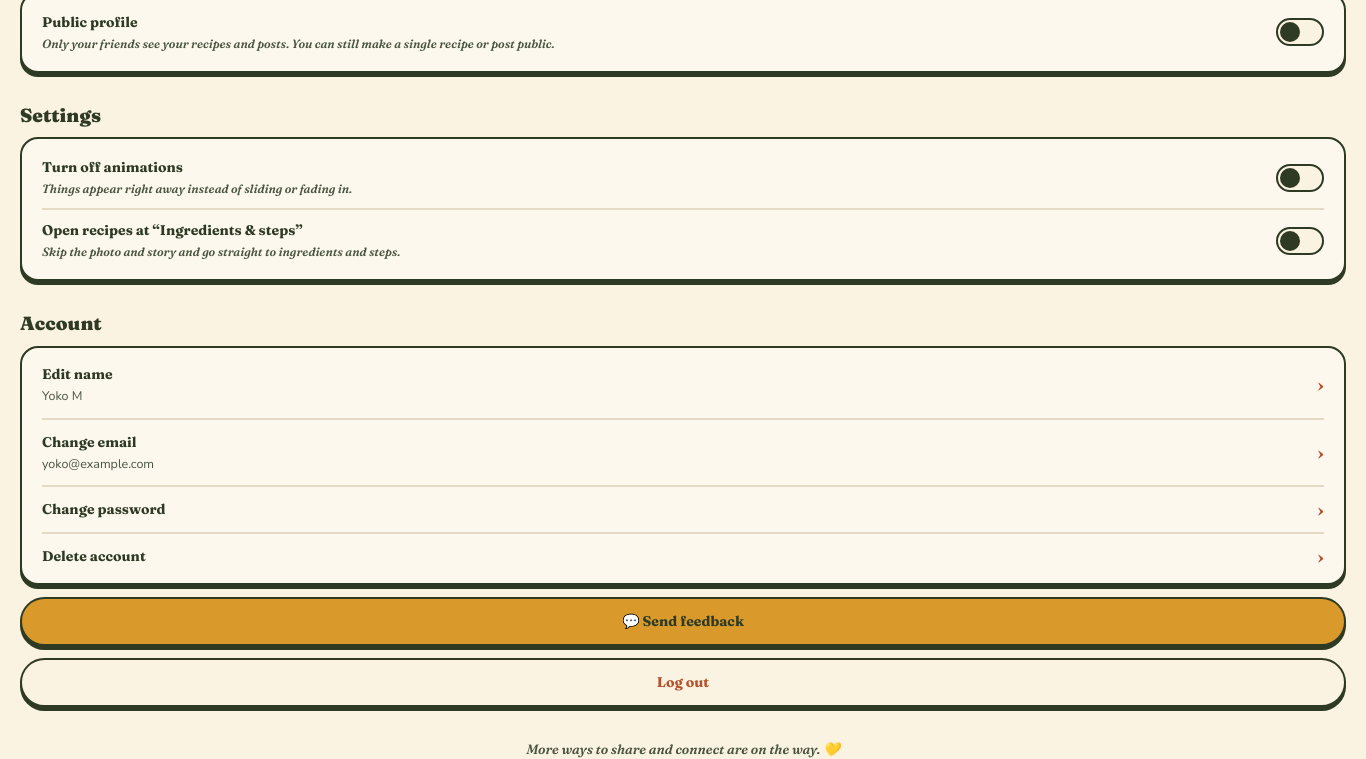
it: Profile account editing › surfaces the server error (e.g. wrong current password) without crashing
(page scrolled)
Click the button "Change password ›".
click(104, 509)  # box 42,487 -> 1324,532
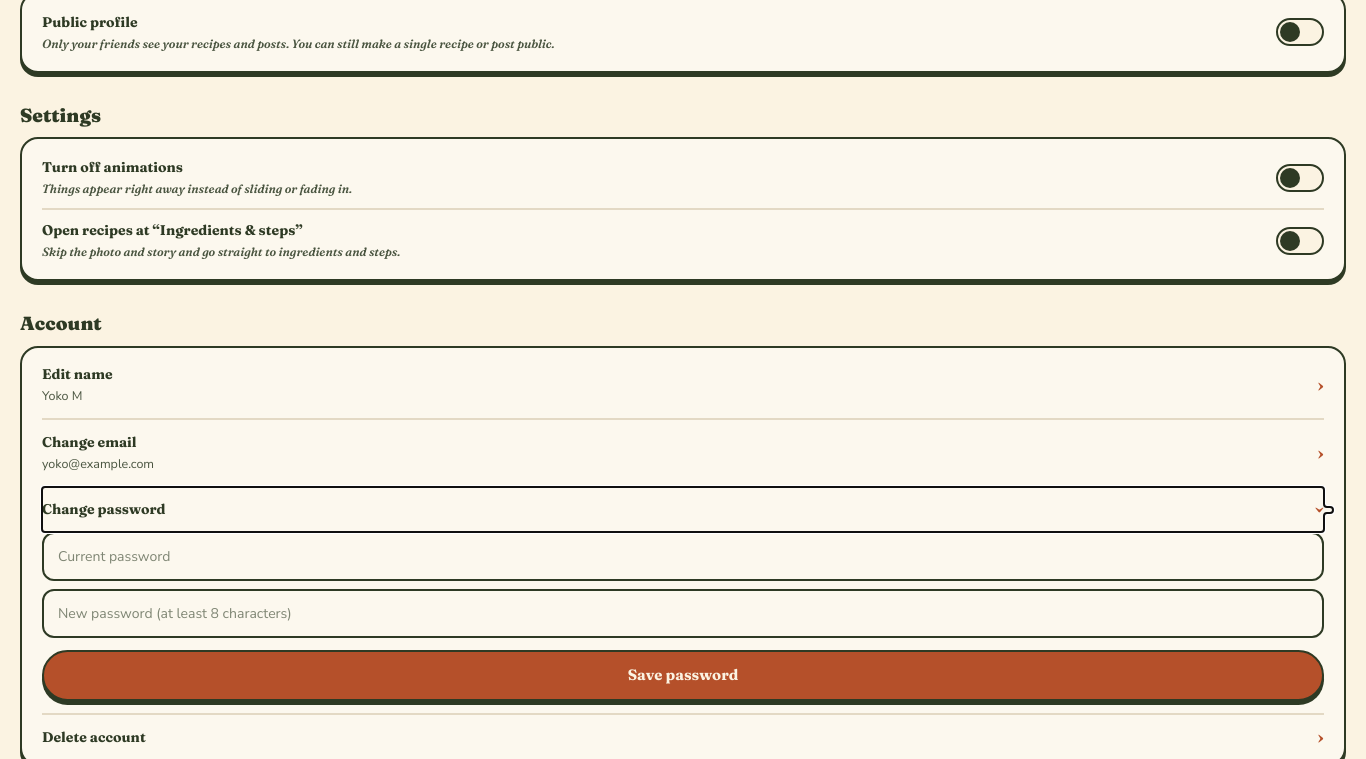
Type "wrong" into the password field labelled "Current password".
click(683, 557); type("wrong")  # box 42,532 -> 1324,581
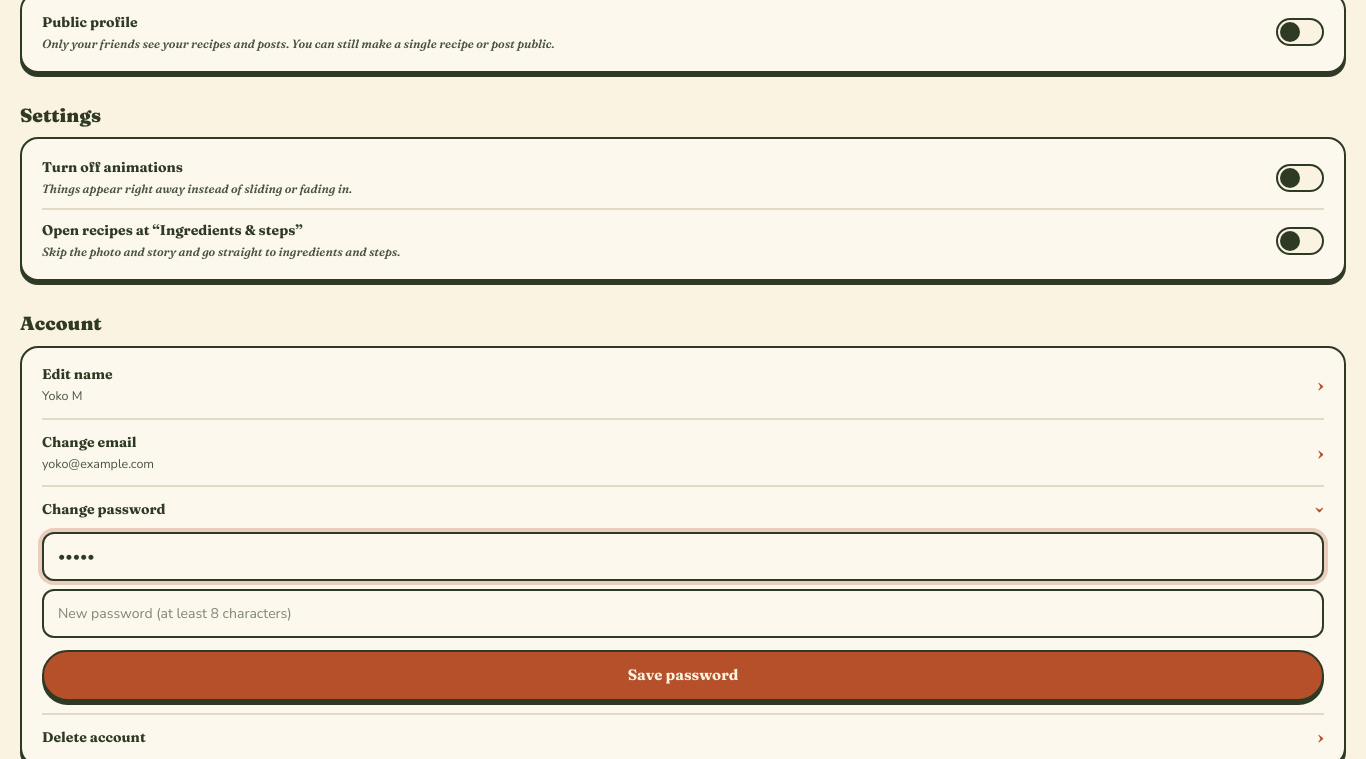
Type "a-new-password" into the password field labelled "New password".
click(683, 614); type("a-new-password")  # box 42,589 -> 1324,638
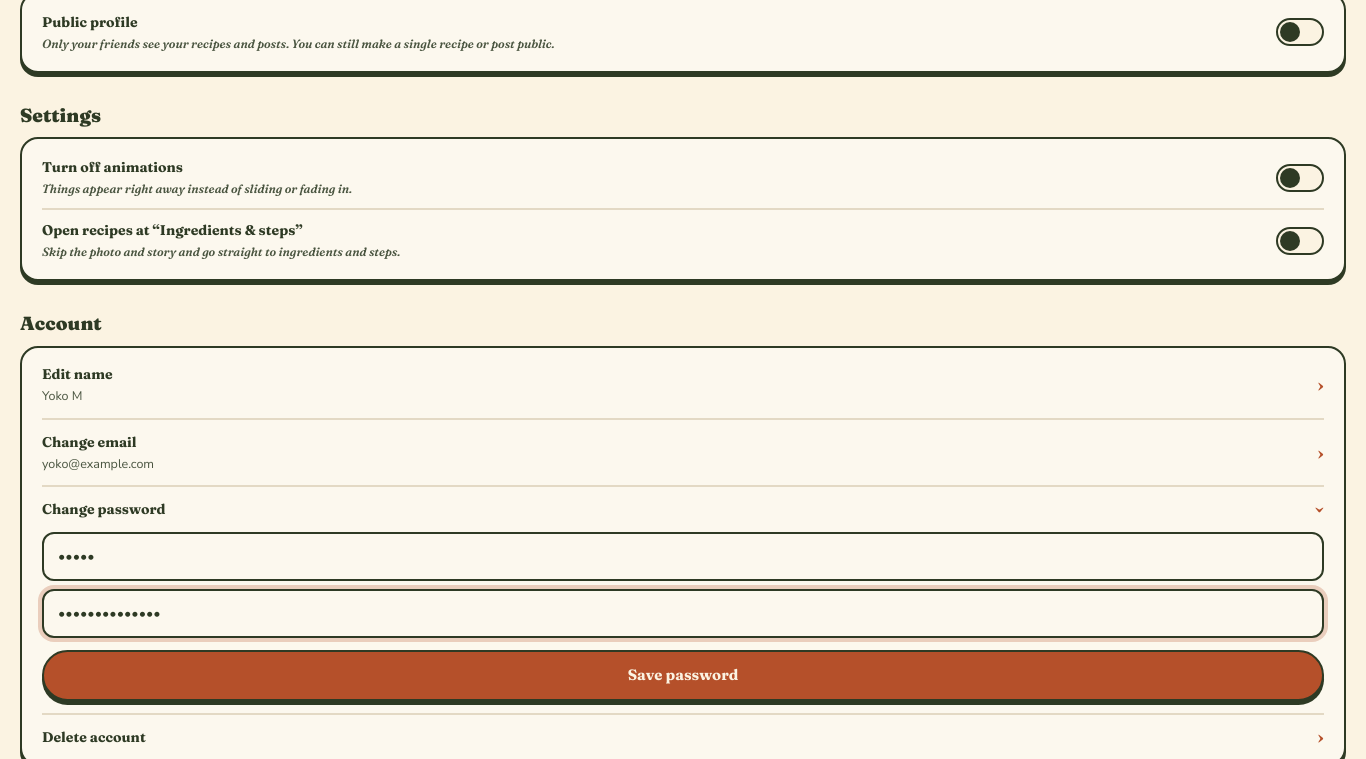
Click the button "Save password".
click(683, 676)  # box 42,650 -> 1324,701
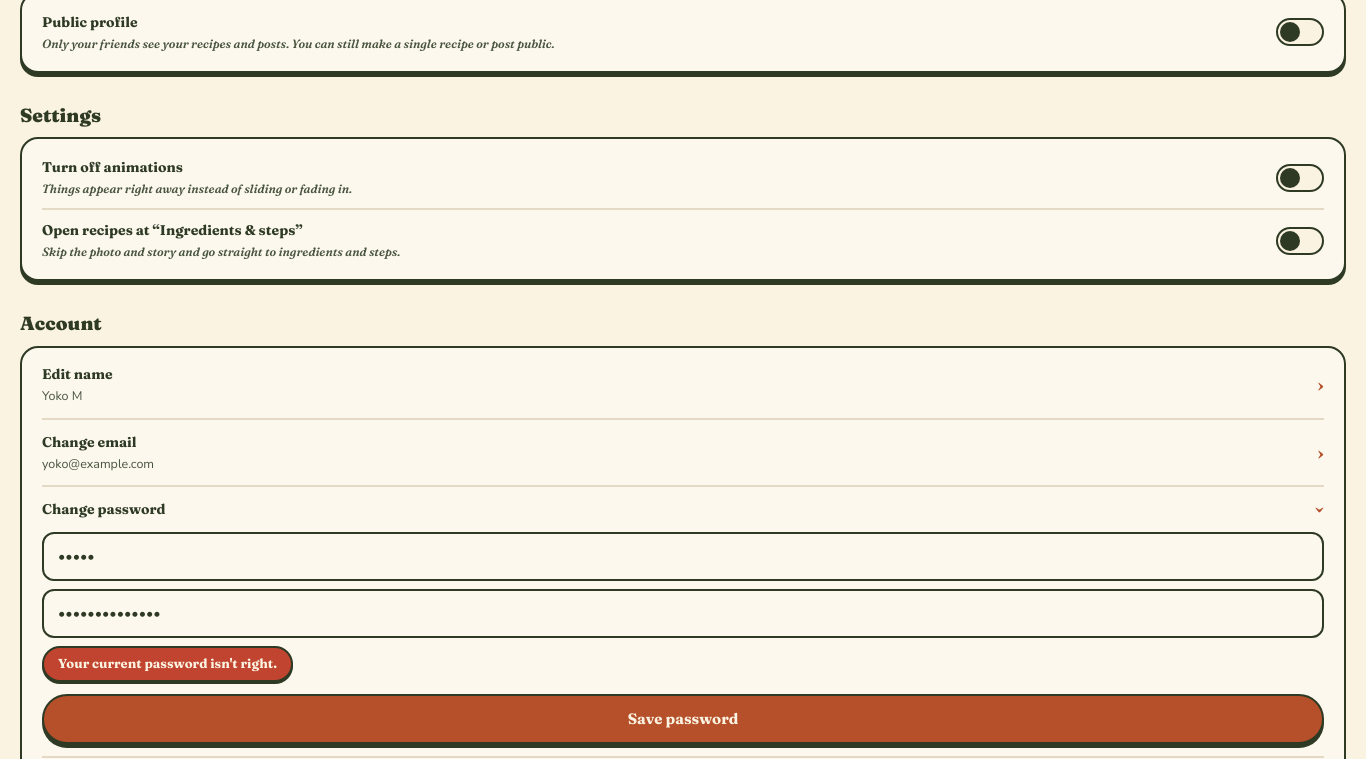
Expected: the text "Your current password isn't right." is shown, 42,646 -> 293,682
